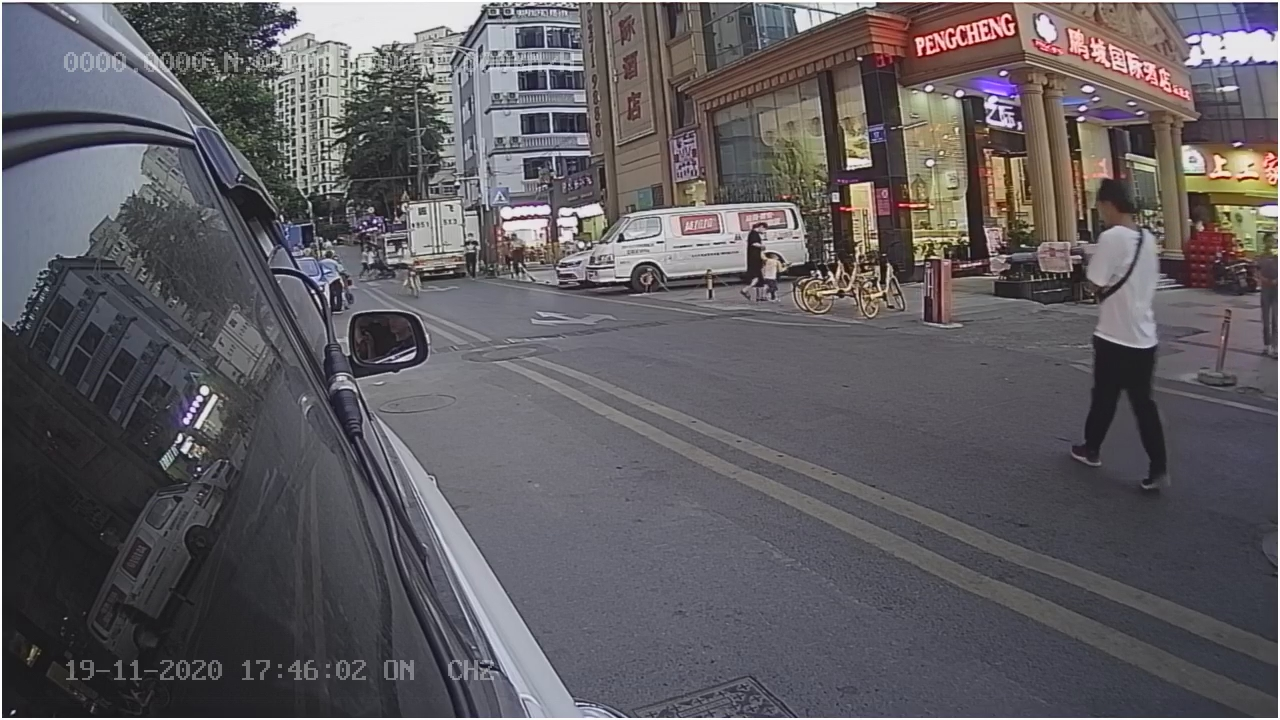person: (1067, 173, 1187, 503)
